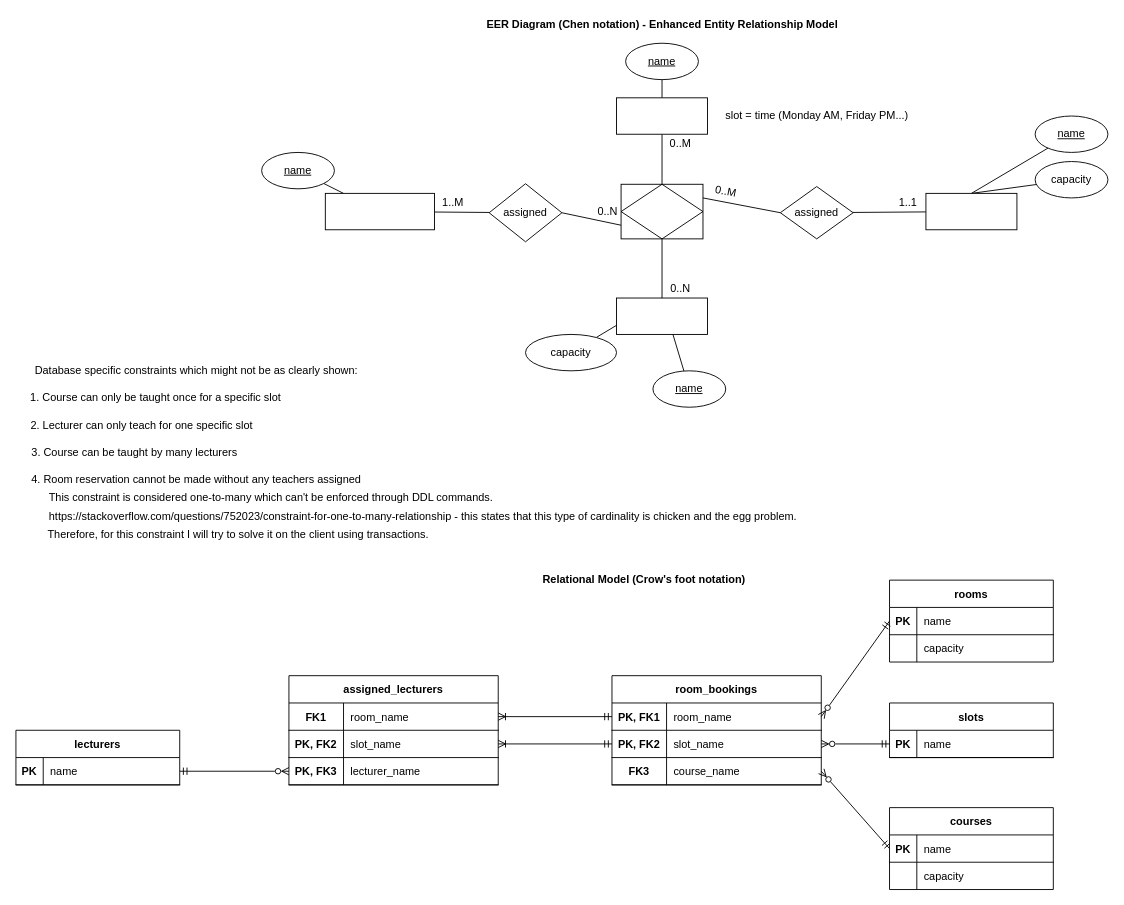
Image size: 1124x905. Some labels were removed from this diagram. The shapes that lost their labels are listed below. From the top down, each one's centre as x and y in pixels, then its label:
At pixel 662 115: "slot".
At pixel 379 211: "lecturer".
At pixel 661 211: "books".
At pixel 971 211: "course".
At pixel 662 315: "room".
